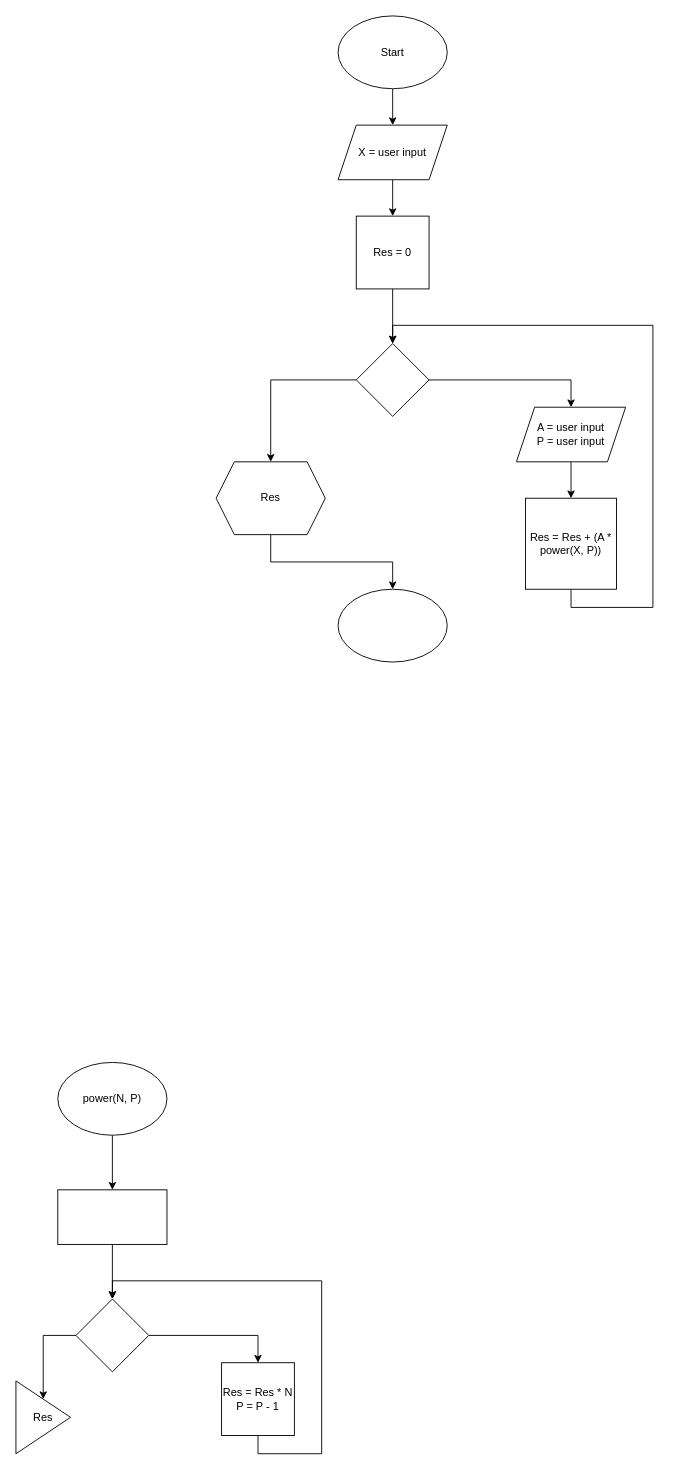
Some shapes in this 676 by 1477 pixel diagram are drawn without their labels. The centre of each missing label's shape, as x and y in pixels:
continue?: [392,379]
P > 0: [112,1335]
Res = 1: [112,1216]
Stop: [392,625]
